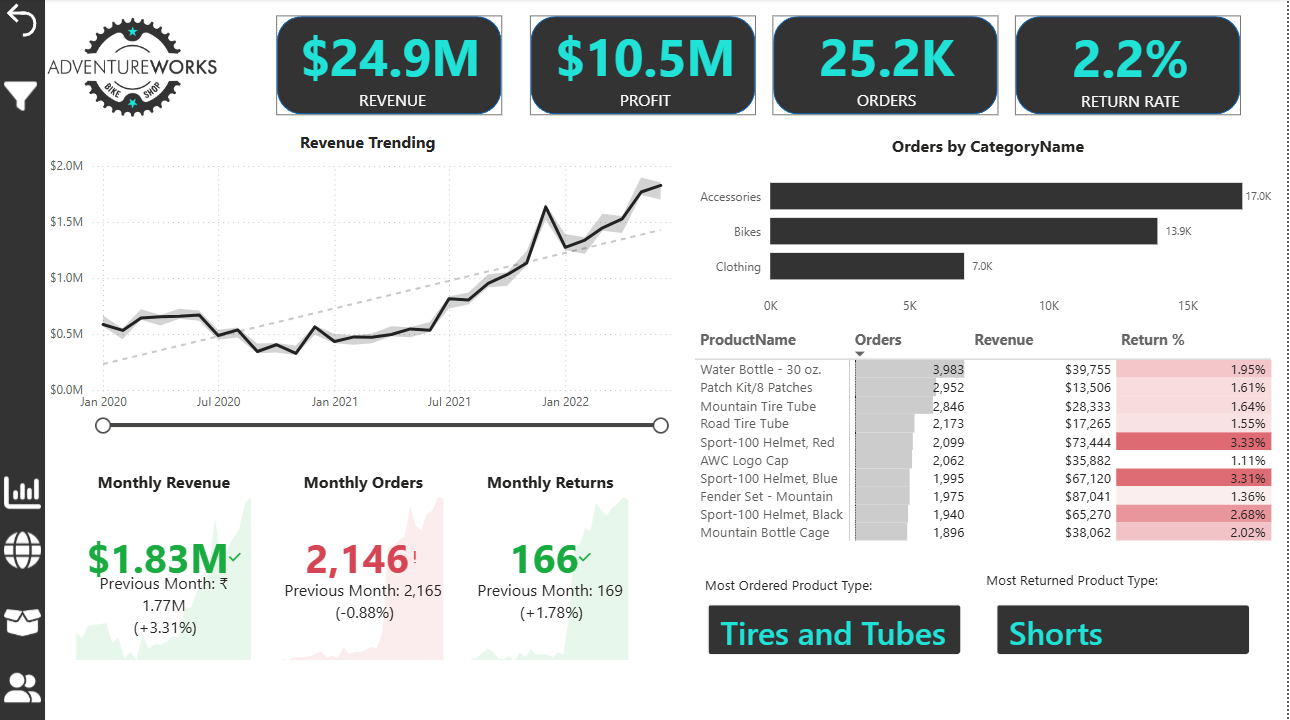

The page's visual inventory and layout, read from the dashboard file:
{"tool":"powerbi","page":{"name":"Exec Dashboard","canvas":[1280,720],"ordinal":0},"visuals":[{"type":"card","fields":{"Values":["Measure Table.Total Revenue"]},"box":[275.6,17.3,225.1,99.6],"z":0,"group":"g2"},{"type":"image","title":"AW Logo","box":[0,17.4,263.7,103.2],"z":0},{"type":"group","id":"g1","title":"KPI Backgrounds","box":[274.9,17.4,960.3,99.5],"z":0,"group":"g3"},{"type":"shape","box":[274.9,17.4,225.2,99.5],"z":0,"group":"g1"},{"type":"actionButton","box":[0,460.3,44.8,64.7],"z":0,"group":"g4"},{"type":"shape","title":"Left Nav Background","box":[0,0,45,720.3],"z":1000},{"type":"group","id":"g2","title":"KPI Values","box":[275.6,17.3,960.9,101],"z":1000,"group":"g3"},{"type":"shape","box":[527.4,17.4,225.2,99.5],"z":1000,"group":"g1"},{"type":"card","fields":{"Values":["Measure Table.Return Rate"]},"box":[1011.4,18.7,225.1,99.6],"z":1000,"group":"g2"},{"type":"actionButton","box":[0,589.6,44.8,64.7],"z":1000,"group":"g4"},{"type":"group","id":"g3","title":"KPIs","box":[274.9,17.3,961.5,101],"z":2000},{"type":"card","fields":{"Values":["Measure Table.Total Profit"]},"box":[529.5,17.3,225.1,99.6],"z":2000,"group":"g2"},{"type":"shape","box":[768.8,17.4,225.2,99.5],"z":2000,"group":"g1"},{"type":"actionButton","box":[0,516.9,44.8,64.7],"z":2000,"group":"g4"},{"type":"card","fields":{"Values":["Measure Table.Total Orders"]},"box":[769,17.3,225.1,99.6],"z":3000,"group":"g2"},{"type":"shape","box":[1010.1,17.4,225.2,99.5],"z":3000,"group":"g1"},{"type":"lineChart","title":" Revenue Trending","fields":{"Category":["Calendar Lookup.Start of Month"],"Y":["Measure Table.Total Revenue"]},"box":[44.7,131.3,642,304.4],"z":3000},{"type":"actionButton","box":[0,654.9,44.8,64.7],"z":3000,"group":"g4"},{"type":"kpi","title":"Monthly Revenue","fields":{"Goal":["Measure Table.Previous Month Revenue"],"Indicator":["Measure Table.Total Revenue"],"TrendLine":["Calendar Lookup.Start of Month"]},"box":[70.9,470.2,184.1,194.1],"z":4000},{"type":"kpi","title":"Monthly Returns","fields":{"Goal":["Measure Table.previous Month Returns"],"Indicator":["Measure Table.Total Returns"],"TrendLine":["Calendar Lookup.Start of Month"]},"box":[464,470.2,166.7,194.1],"z":5000},{"type":"kpi","title":"Monthly Orders","fields":{"Goal":["Measure Table.Previous month Orders"],"Indicator":["Measure Table.Total Orders"],"TrendLine":["Calendar Lookup.Start of Month"]},"box":[276.2,470.2,170.4,194.1],"z":6000},{"type":"clusteredBarChart","title":"Orders by CategoryName","fields":{"Category":["Product Categories Lookup.CategoryName"],"Y":["Measure Table.Total Orders"]},"box":[686.7,135.6,593.4,189.1],"z":7000},{"type":"pivotTable","fields":{"Rows":["Product Lookup.ProductName"],"Values":["Measure Table.Total Orders","Measure Table.Total Revenue","Measure Table.Return Rate"]},"box":[686.7,324.7,593.4,222.7],"z":8000},{"type":"cardVisual","fields":{"Data":["Min(Product Subcategories Lookup.SubcategoryName)"]},"box":[686.7,585.9,287.4,85.8],"z":9000},{"type":"textbox","box":[696.6,569.7,185.3,33],"z":10000},{"type":"cardVisual","fields":{"Data":["Min(Product Subcategories Lookup.SubcategoryName)"]},"box":[974,585.9,287.4,85.8],"z":11000},{"type":"textbox","box":[976.3,564.8,185.3,33],"z":12000},{"type":"actionButton","box":[0,0,44.8,43.5],"z":13000},{"type":"group","id":"g4","title":"Navigation Buttons","box":[0,460.3,44.8,260],"z":14000},{"type":"actionButton","box":[0,77.1,44.8,41.1],"z":15000}]}

Visuals, with their boxes on the page's 1280x720 design canvas (x1, y1, x2, y2). These are canvas units, not pixel positions in the 1290x720 screenshot, which may show the page scaled, cropped or inside an application window:
card - Measure Table.Total Revenue: pyautogui.locateOnScreen(276, 17, 501, 117)
"AW Logo" image: pyautogui.locateOnScreen(0, 17, 264, 121)
"KPI Backgrounds" group: pyautogui.locateOnScreen(275, 17, 1235, 117)
shape: pyautogui.locateOnScreen(275, 17, 500, 117)
actionButton: pyautogui.locateOnScreen(0, 460, 45, 525)
"Left Nav Background" shape: pyautogui.locateOnScreen(0, 0, 45, 720)
"KPI Values" group: pyautogui.locateOnScreen(276, 17, 1236, 118)
shape: pyautogui.locateOnScreen(527, 17, 753, 117)
card - Measure Table.Return Rate: pyautogui.locateOnScreen(1011, 19, 1236, 118)
actionButton: pyautogui.locateOnScreen(0, 590, 45, 654)
"KPIs" group: pyautogui.locateOnScreen(275, 17, 1236, 118)
card - Measure Table.Total Profit: pyautogui.locateOnScreen(530, 17, 755, 117)
shape: pyautogui.locateOnScreen(769, 17, 994, 117)
actionButton: pyautogui.locateOnScreen(0, 517, 45, 582)
card - Measure Table.Total Orders: pyautogui.locateOnScreen(769, 17, 994, 117)
shape: pyautogui.locateOnScreen(1010, 17, 1235, 117)
" Revenue Trending" lineChart: pyautogui.locateOnScreen(45, 131, 687, 436)
actionButton: pyautogui.locateOnScreen(0, 655, 45, 720)
"Monthly Revenue" kpi: pyautogui.locateOnScreen(71, 470, 255, 664)
"Monthly Returns" kpi: pyautogui.locateOnScreen(464, 470, 631, 664)
"Monthly Orders" kpi: pyautogui.locateOnScreen(276, 470, 447, 664)
"Orders by CategoryName" clusteredBarChart: pyautogui.locateOnScreen(687, 136, 1280, 325)
pivotTable - Product Lookup.ProductName x Measure Table.Total Orders: pyautogui.locateOnScreen(687, 325, 1280, 547)
cardVisual - Min(Product Subcategories Lookup.SubcategoryName): pyautogui.locateOnScreen(687, 586, 974, 672)
textbox: pyautogui.locateOnScreen(697, 570, 882, 603)
cardVisual - Min(Product Subcategories Lookup.SubcategoryName): pyautogui.locateOnScreen(974, 586, 1261, 672)
textbox: pyautogui.locateOnScreen(976, 565, 1162, 598)
actionButton: pyautogui.locateOnScreen(0, 0, 45, 44)
"Navigation Buttons" group: pyautogui.locateOnScreen(0, 460, 45, 720)
actionButton: pyautogui.locateOnScreen(0, 77, 45, 118)
